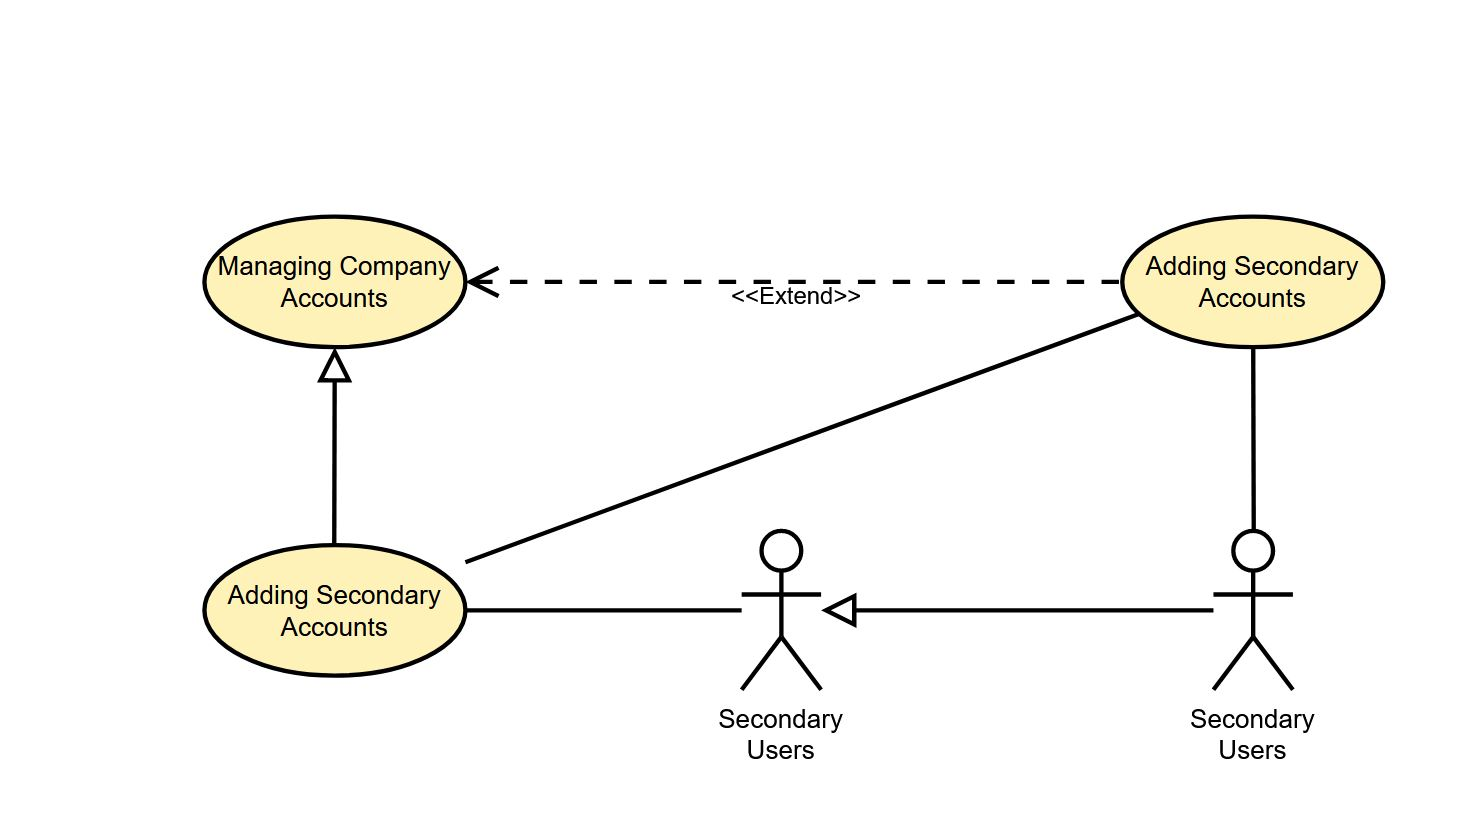actor: (739, 525, 829, 699), (1212, 529, 1298, 696)
association: (468, 311, 1140, 567), (468, 263, 1122, 301), (823, 592, 1212, 632), (469, 593, 742, 630), (318, 350, 359, 541), (1238, 351, 1272, 527)
text: (219, 253, 454, 313), (229, 578, 450, 641), (1138, 252, 1360, 312), (712, 704, 857, 764), (1184, 703, 1319, 761), (728, 285, 869, 309)
use_case: (1116, 213, 1386, 353), (200, 541, 467, 681), (200, 213, 469, 351)
